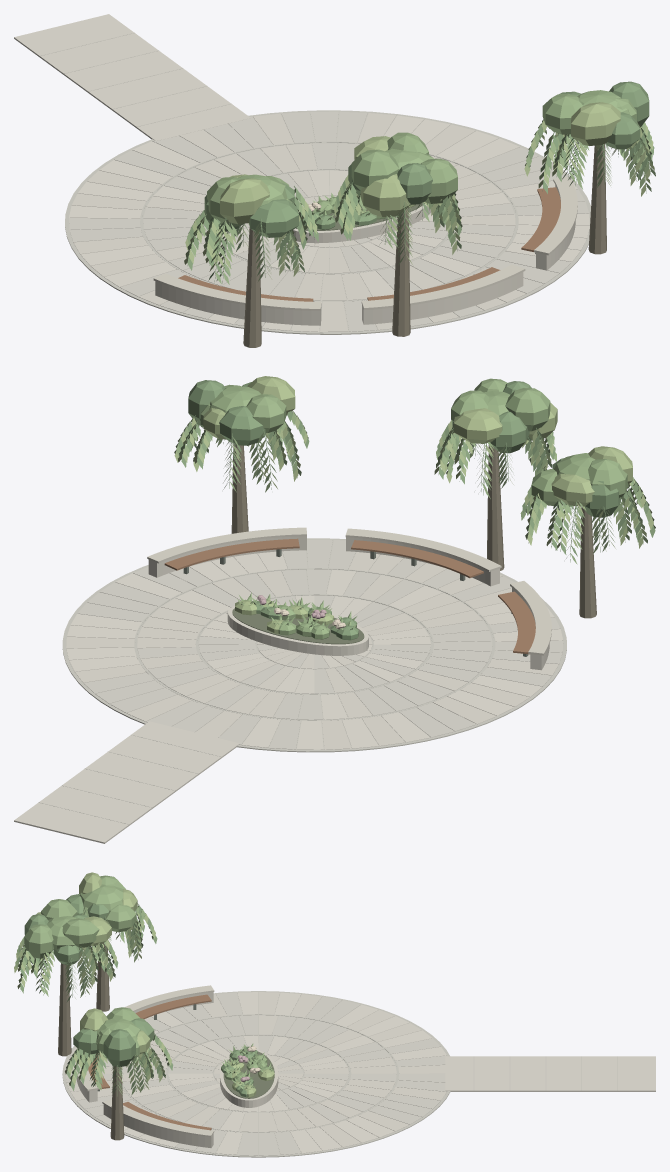
The model's file is qingze-reading-garden.glb.
3 views of the same model, one above another, from view 1: azimuth 30°, elevation 25°; view 2: azimuth 150°, elevation 25°; view 3: azimuth 270°, elevation 25° (orthographic). The views are drawn at different scales.
Visible parts, largest first — view 1: Garden_tile1, Garden_tile2, Garden_tile3, Garden_leaf2, Garden_leaf1, Garden_leaf3, Garden_stone, Garden_pale, Garden_bark, Garden_sand, Garden_wood; view 2: Garden_tile1, Garden_tile2, Garden_tile3, Garden_leaf2, Garden_leaf1, Garden_leaf3, Garden_stone, Garden_sand, Garden_bark, Garden_pale, Garden_wood, Garden_soil; view 3: Garden_tile1, Garden_tile2, Garden_tile3, Garden_leaf2, Garden_leaf1, Garden_stone, Garden_leaf3, Garden_pale, Garden_bark, Garden_sand, Garden_wood, Garden_soil.
Part boxes in pixels (x1,y1,x2,y2): Garden_tile1: (14,14,526,332); Garden_tile2: (69,111,588,331); Garden_tile3: (69,115,589,331); Garden_leaf2: (185,90,652,284); Garden_leaf1: (187,81,655,283); Garden_leaf3: (184,102,654,278); Garden_stone: (40,32,590,334); Garden_pale: (155,185,575,325); Garden_bark: (243,143,606,347); Garden_sand: (153,177,577,310); Garden_wood: (178,187,560,301); Garden_tile1: (14,552,558,843); Garden_tile2: (77,539,563,749); Garden_tile3: (66,551,563,749); Garden_leaf2: (174,378,655,639); Garden_leaf1: (175,380,655,640); Garden_leaf3: (174,376,653,633); Garden_stone: (38,538,566,824); Garden_sand: (147,527,551,655); Garden_bark: (231,444,596,618); Garden_pale: (148,536,549,670); Garden_wood: (164,538,535,654); Garden_soil: (232,608,364,644); Garden_tile1: (66,992,655,1147); Garden_tile2: (65,992,447,1155); Garden_tile3: (108,992,446,1154); Garden_leaf2: (15,875,274,1095); Garden_leaf1: (17,894,257,1097); Garden_stone: (62,991,617,1157); Garden_leaf3: (14,872,274,1097); Garden_pale: (76,992,278,1147); Garden_bark: (58,943,124,1140); Garden_sand: (74,985,214,1137); Garden_wood: (88,994,211,1130); Garden_soil: (223,1051,274,1098).
Size of the model in its own units: 16.99 by 6.55 by 26.82.
